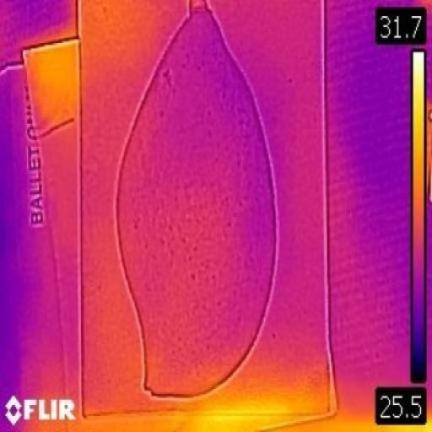mango: (117, 2, 276, 398)
